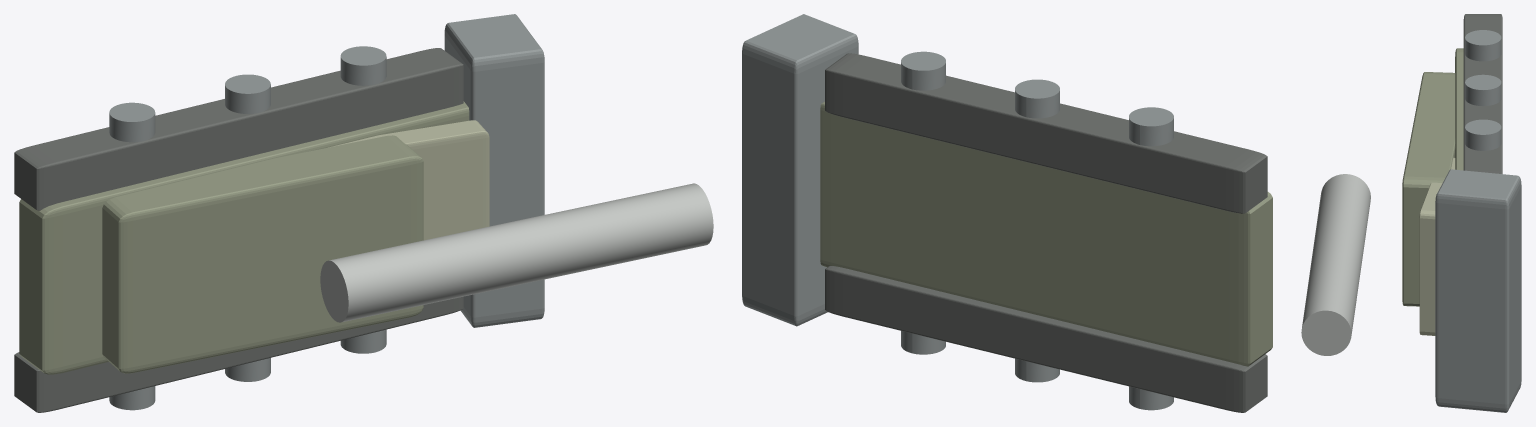
Rendered from v-u19-vanguard-siege-tank-lod2.glb.
3 renders of one model, left to right at view 1: azimuth 30°, elevation 25°; view 2: azimuth 150°, elevation 25°; view 3: azimuth 270°, elevation 25°, orthographic. The views are drawn at different scales.
Parts seen in each view (by area): view 1: upper_hull, chassis_track_1, siege_cannon_barrel_0, chassis_lower, siege_dozer, chassis_track_-1, chassis_glacis, chassis_roadwheel_1_1, chassis_roadwheel_1_5, chassis_roadwheel_1_3, chassis_roadwheel_-1_1, chassis_roadwheel_-1_5 (+1 smaller); view 2: chassis_lower, chassis_track_1, siege_dozer, chassis_track_-1, chassis_roadwheel_1_3, chassis_roadwheel_1_1, chassis_roadwheel_1_5, chassis_roadwheel_-1_5, chassis_roadwheel_-1_3, chassis_roadwheel_-1_1; view 3: siege_dozer, siege_cannon_barrel_0, upper_hull, chassis_track_1, chassis_glacis, chassis_lower, chassis_roadwheel_1_5, chassis_roadwheel_1_1, chassis_roadwheel_1_3.
Part boxes in pixels (x1,y1,x2,y2): upper_hull: (102, 135, 423, 373); chassis_track_1: (14, 48, 463, 210); siege_cannon_barrel_0: (320, 183, 713, 322); chassis_lower: (19, 101, 469, 374); siege_dozer: (444, 14, 544, 327); chassis_track_-1: (14, 296, 463, 412); chassis_glacis: (328, 120, 489, 240); chassis_roadwheel_1_1: (109, 102, 155, 142); chassis_roadwheel_1_5: (340, 46, 386, 85); chassis_roadwheel_1_3: (225, 74, 270, 113); chassis_roadwheel_-1_1: (109, 386, 155, 410); chassis_roadwheel_-1_5: (340, 329, 386, 353); chassis_lower: (820, 101, 1272, 366); chassis_track_1: (825, 53, 1267, 213); siege_dozer: (742, 14, 858, 326); chassis_track_-1: (825, 266, 1267, 412); chassis_roadwheel_1_3: (1015, 79, 1059, 118); chassis_roadwheel_1_1: (1129, 107, 1173, 146); chassis_roadwheel_1_5: (901, 51, 945, 90); chassis_roadwheel_-1_5: (901, 331, 945, 354); chassis_roadwheel_-1_3: (1015, 358, 1059, 382); chassis_roadwheel_-1_1: (1129, 386, 1173, 410); siege_dozer: (1435, 169, 1521, 412); siege_cannon_barrel_0: (1301, 174, 1370, 355); upper_hull: (1402, 72, 1455, 306); chassis_track_1: (1463, 14, 1502, 173); chassis_glacis: (1419, 157, 1455, 335); chassis_lower: (1455, 48, 1463, 170); chassis_roadwheel_1_5: (1465, 119, 1501, 150); chassis_roadwheel_1_1: (1465, 30, 1501, 61); chassis_roadwheel_1_3: (1465, 74, 1501, 106).
Size of what is drawn, in the model's own units: 10.6 by 5.06 by 4.42.
